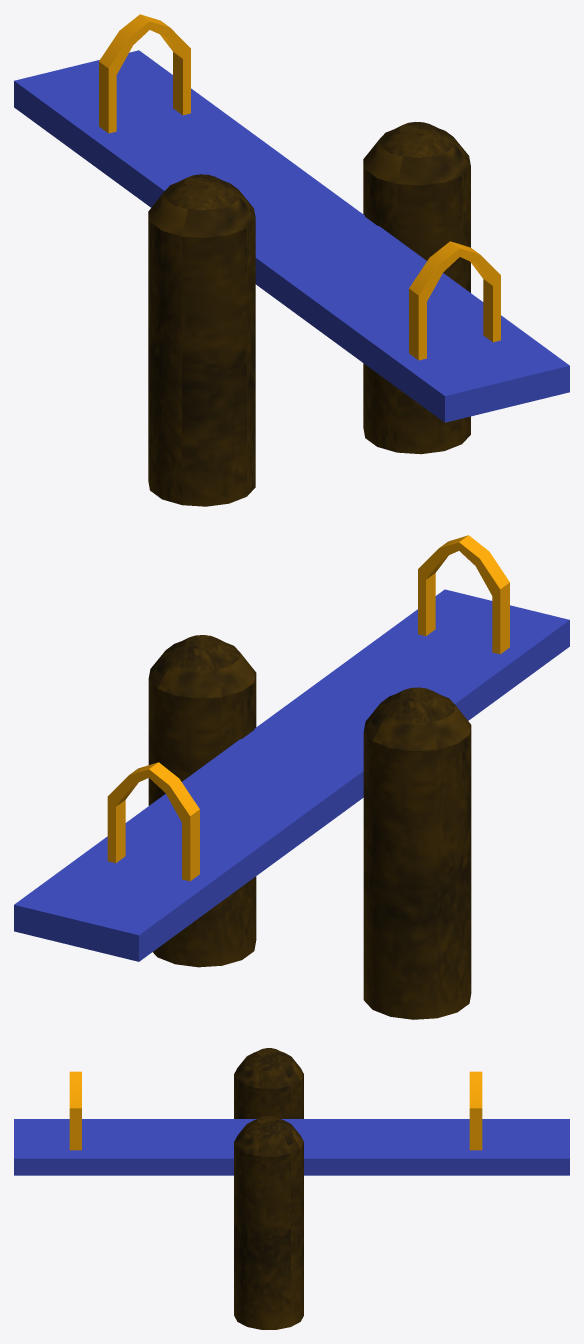
File: GangorraAzulLOD0 - Copy.fbx
3 renders of one model, top to bottom at view 1: azimuth 30°, elevation 25°; view 2: azimuth 150°, elevation 25°; view 3: azimuth 270°, elevation 25°, orthographic. The views are drawn at different scales.
Visible parts, largest first — view 1: GangorraAzulLOD0; view 2: GangorraAzulLOD0; view 3: GangorraAzulLOD0.
Boxes of the visible parts, left/top/right/bottom form: GangorraAzulLOD0: left=14, top=14, right=569, bottom=506; GangorraAzulLOD0: left=14, top=535, right=569, bottom=1019; GangorraAzulLOD0: left=14, top=1048, right=569, bottom=1329.
Bounding box in the file's own units: 64.01 × 64.42 × 156.
